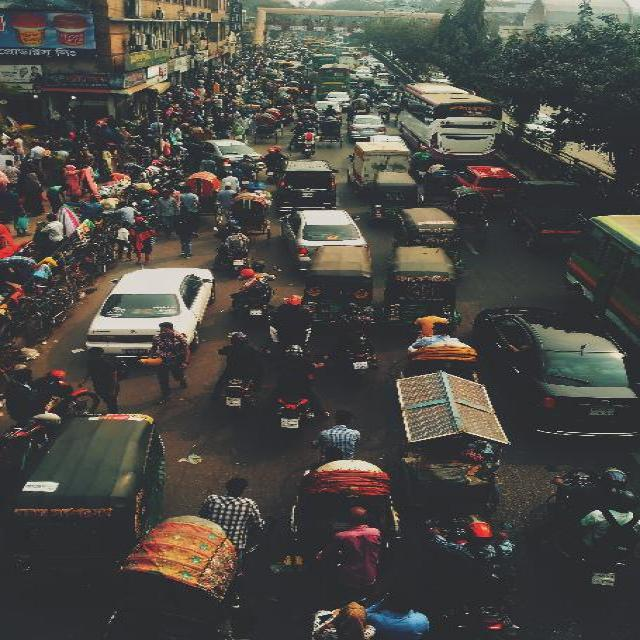bike: (427, 516, 522, 638), (549, 466, 632, 593), (1, 372, 99, 454), (270, 354, 324, 430), (218, 342, 267, 415), (331, 317, 380, 375), (271, 309, 313, 357), (211, 225, 251, 275), (27, 299, 68, 343), (61, 262, 99, 299), (242, 276, 273, 318), (88, 237, 117, 275), (264, 155, 288, 179), (410, 154, 429, 182), (239, 167, 257, 189), (289, 128, 308, 148), (301, 136, 316, 158), (378, 109, 392, 123), (320, 109, 336, 120), (303, 84, 311, 95), (371, 94, 378, 106), (373, 69, 382, 74)
vehicle: (469, 306, 639, 441), (14, 413, 168, 560), (105, 514, 253, 639), (394, 373, 505, 511), (85, 267, 216, 357), (281, 449, 403, 539), (559, 213, 639, 345), (396, 82, 503, 162), (385, 246, 465, 328), (280, 210, 373, 270), (510, 181, 586, 254), (302, 246, 374, 315), (393, 208, 469, 273), (405, 330, 476, 382), (273, 159, 338, 211), (346, 142, 414, 185), (441, 186, 488, 245), (370, 172, 422, 221), (451, 166, 524, 200), (195, 139, 267, 172), (226, 194, 273, 242), (181, 170, 222, 224), (419, 172, 460, 205), (316, 64, 350, 98), (252, 114, 277, 146), (317, 117, 342, 149), (265, 109, 284, 137), (314, 101, 342, 119), (325, 92, 351, 109), (386, 93, 405, 112), (312, 55, 338, 67), (376, 84, 398, 98), (349, 99, 369, 114), (342, 52, 362, 66), (273, 96, 293, 108), (300, 109, 317, 123), (339, 57, 354, 72), (358, 76, 375, 88), (375, 73, 389, 85), (278, 62, 294, 72), (320, 47, 339, 54), (388, 75, 400, 86), (334, 48, 356, 54), (286, 88, 300, 97), (372, 63, 386, 72), (309, 43, 323, 51), (291, 72, 303, 81), (355, 71, 372, 77), (356, 47, 368, 55), (350, 74, 357, 87), (309, 72, 319, 81), (302, 39, 316, 45), (288, 82, 301, 88), (253, 92, 265, 98), (268, 61, 278, 68), (355, 67, 372, 71), (287, 67, 297, 73), (267, 73, 277, 79), (367, 61, 379, 66), (361, 57, 371, 63), (277, 55, 286, 61), (361, 95, 371, 100), (316, 38, 326, 43), (303, 70, 311, 76), (296, 66, 304, 71), (265, 69, 273, 73), (288, 57, 295, 61)
